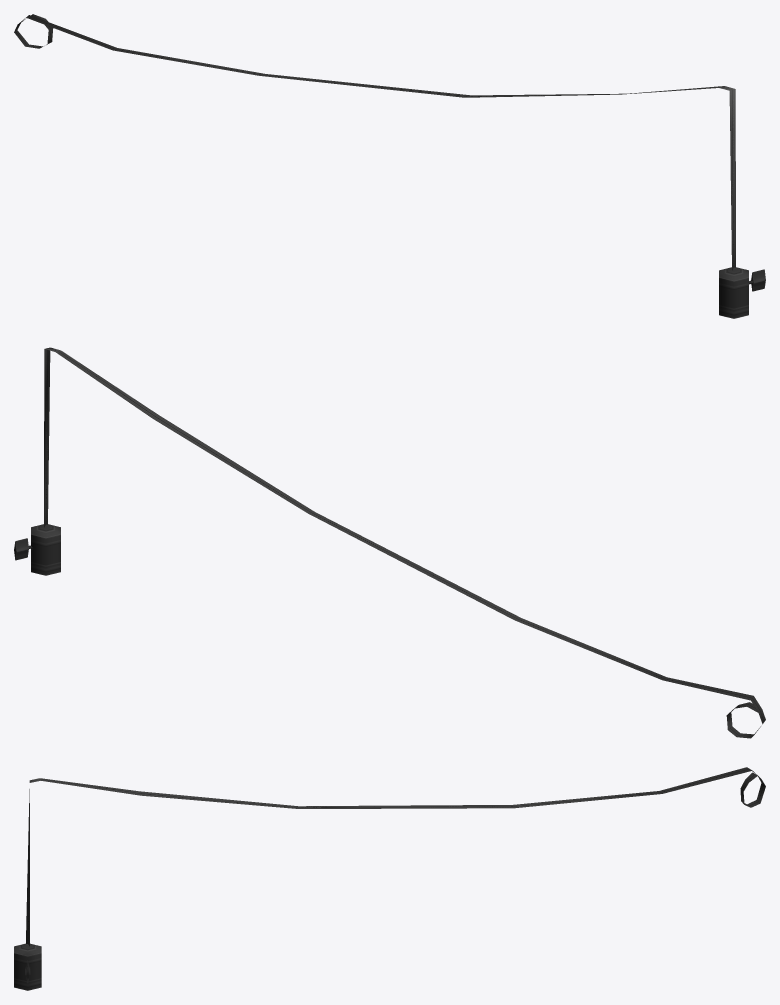
Rendered from jsf_2P_Light_s01_c.fbx.
3 views of the same model, one above another, from view 1: azimuth 30°, elevation 25°; view 2: azimuth 210°, elevation 25°; view 3: azimuth 270°, elevation 25° (orthographic). The views are drawn at different scales.
Parts seen in each view (by area): view 1: jsf_2P_Light_s01_c; view 2: jsf_2P_Light_s01_c; view 3: jsf_2P_Light_s01_c.
Boxes of the visible parts, <box> form: jsf_2P_Light_s01_c: <box>14,14,765,318</box>; jsf_2P_Light_s01_c: <box>14,347,765,738</box>; jsf_2P_Light_s01_c: <box>14,767,765,990</box>.
Bounding box in the file's own units: 38.22 × 23.06 × 77.65.
